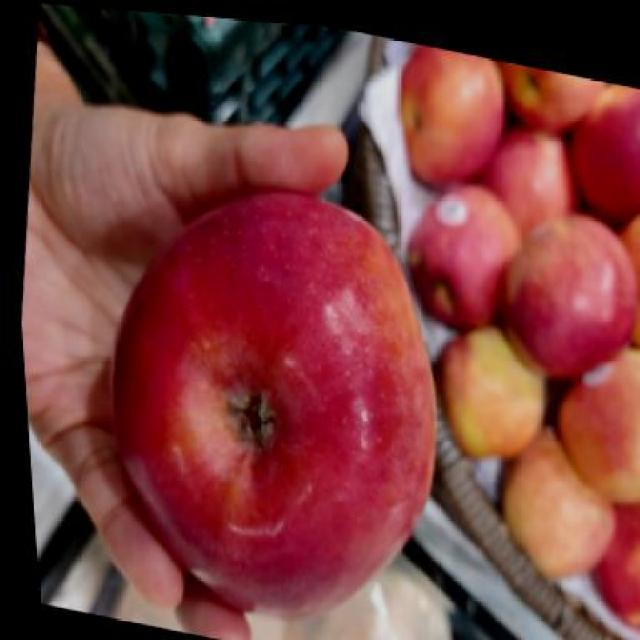Fresh Apple: (99, 198, 441, 616)
